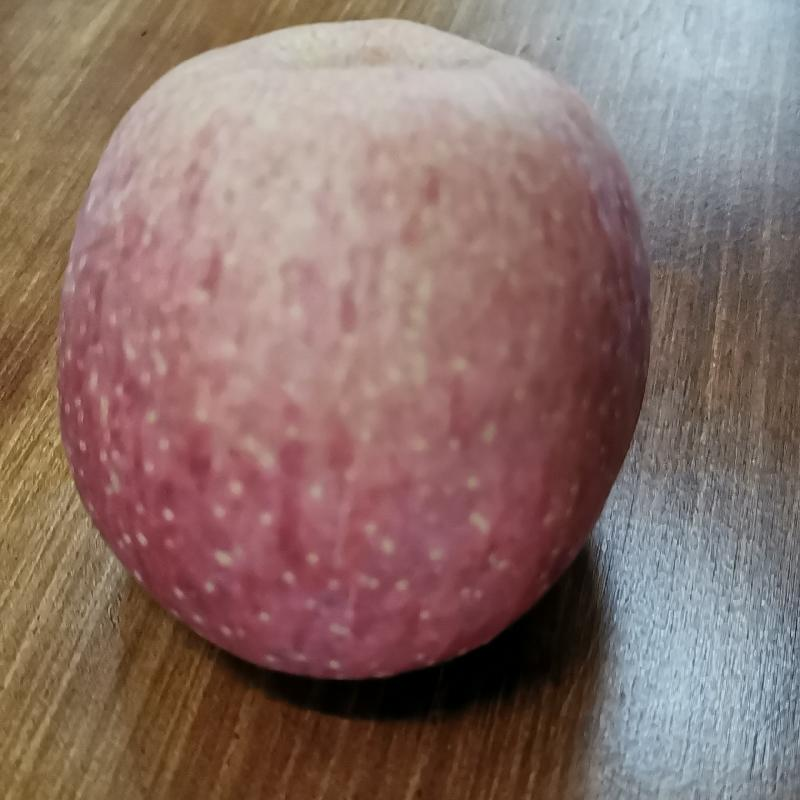apples: (43, 16, 655, 684)
